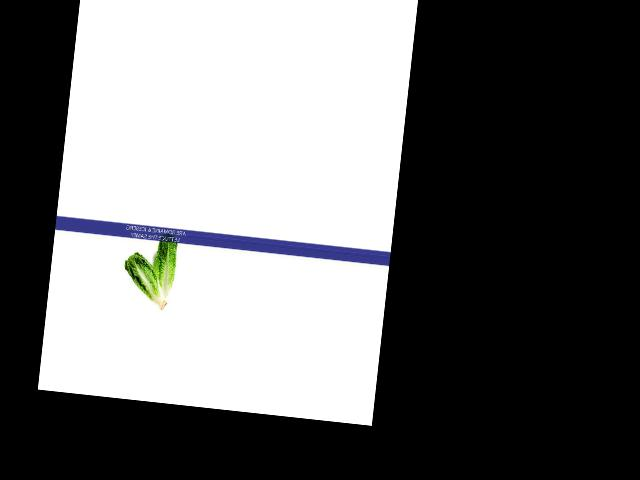lettuce: (121, 248, 172, 317)
